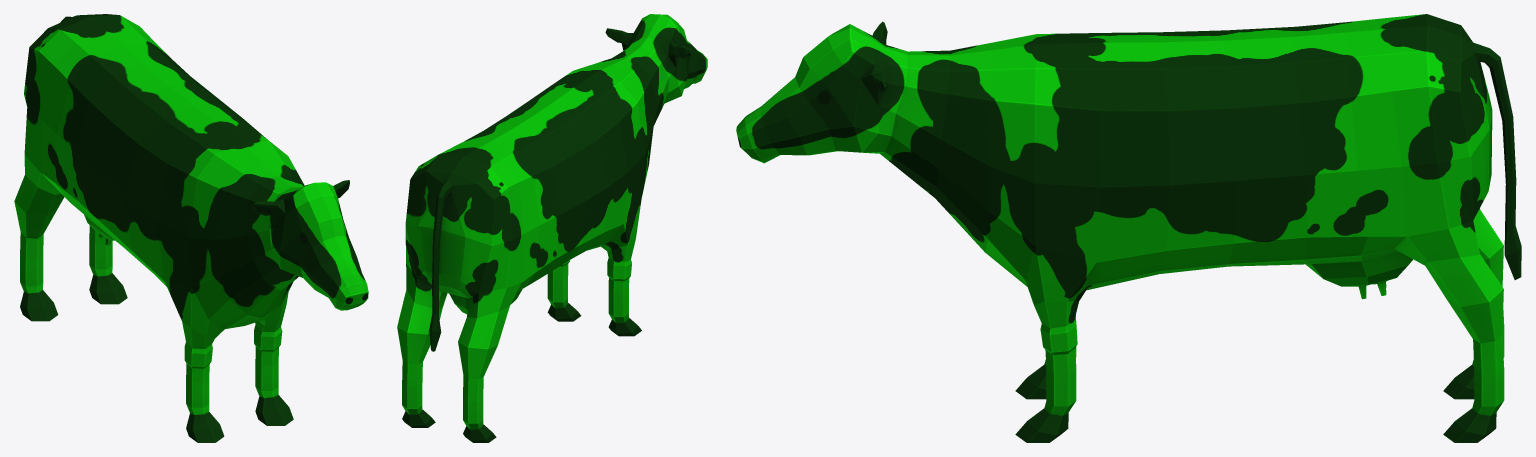
Rendered from Cow_healthy_not_inestrus.gltf.
3 views of the same model, side by side, from view 1: azimuth 30°, elevation 25°; view 2: azimuth 150°, elevation 25°; view 3: azimuth 270°, elevation 25° (orthographic). The views are drawn at different scales.
Parts seen in each view (by area): view 1: Cow_mesh; view 2: Cow_mesh; view 3: Cow_mesh.
Part boxes in pixels (left/top/right/bottom): Cow_mesh: left=14, top=14, right=368, bottom=442; Cow_mesh: left=397, top=14, right=707, bottom=442; Cow_mesh: left=736, top=14, right=1521, bottom=442.
Size of the model in its own units: 3.36 by 7.42 by 13.65.
1 material, 1 textured.
